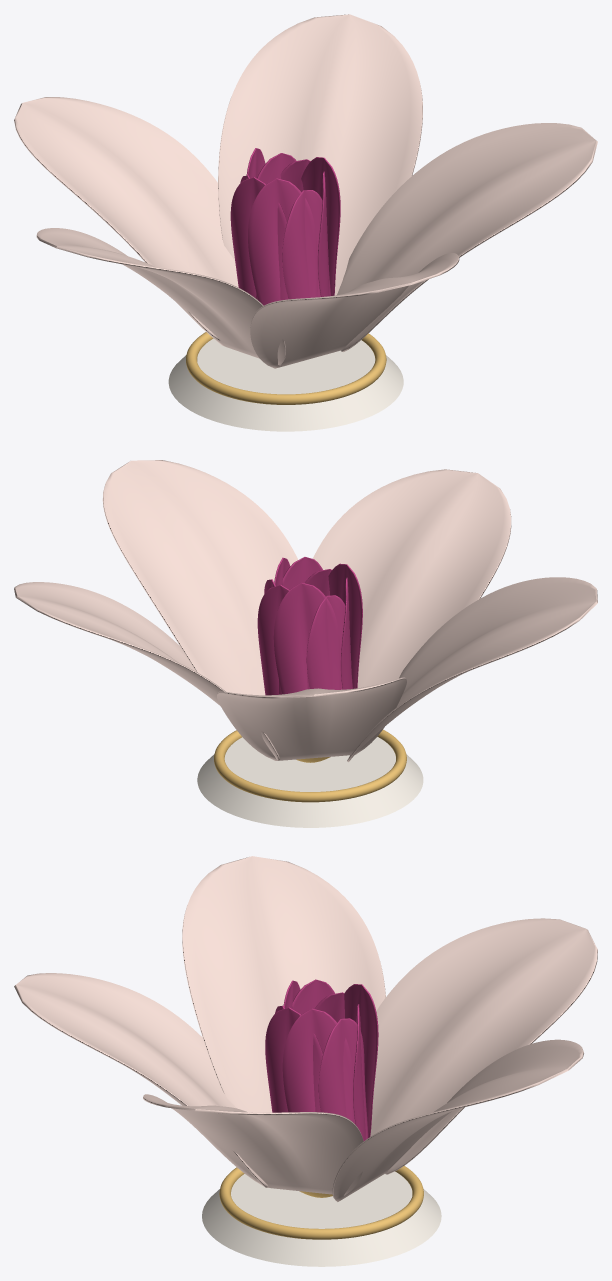
File: lotus.glb
The picture shows the model from 3 angles, top to bottom: view 1: azimuth 30°, elevation 25°; view 2: azimuth 150°, elevation 25°; view 3: azimuth 270°, elevation 25°; orthographic projection. The views are drawn at different scales.
Parts seen in each view (by area): view 1: petal_shanti, petal_prema, petal_dharma, plinth, petal_sathya, petal_ahimsa, petal_mid_8, plinth_rim, petal_mid_0, petal_mid_7, petal_mid_2, petal_mid_1 (+1 smaller); view 2: petal_dharma, petal_sathya, plinth, petal_ahimsa, petal_prema, petal_shanti, petal_mid_5, plinth_rim, petal_mid_6, petal_mid_4, petal_mid_8, petal_mid_7 (+1 smaller); view 3: petal_ahimsa, petal_prema, petal_sathya, plinth, petal_dharma, petal_shanti, petal_mid_2, plinth_rim, petal_mid_3, petal_mid_1, petal_mid_5, petal_mid_4 (+2 smaller).
Part boxes in pixels (x1,y1,x2,y2): petal_shanti: (218,14,422,295); petal_prema: (14,97,238,340); petal_dharma: (337,123,597,351); plinth: (168,338,403,431); petal_sathya: (250,253,459,368); petal_ahimsa: (36,228,285,365); petal_mid_8: (248,178,317,305); plinth_rim: (186,332,386,404); petal_mid_0: (282,190,330,299); petal_mid_7: (230,177,288,300); petal_mid_2: (301,157,340,295); petal_mid_1: (317,171,329,296); petal_dharma: (102,460,298,695); petal_sathya: (312,469,511,688); plinth: (197,737,423,827); petal_ahimsa: (347,577,597,761); petal_prema: (217,677,406,760); petal_shanti: (14,582,280,760); petal_mid_5: (273,582,341,694); plinth_rim: (214,729,406,802); petal_mid_6: (306,595,352,689); petal_mid_4: (257,585,309,695); petal_mid_8: (328,563,362,688); petal_mid_7: (340,577,351,689); petal_ahimsa: (182,856,385,1112); petal_prema: (370,918,597,1174); petal_sathya: (14,973,267,1187); plinth: (202,1171,441,1266); petal_dharma: (143,1094,363,1195); petal_shanti: (332,1039,583,1201); petal_mid_2: (282,1008,354,1122); plinth_rim: (219,1166,423,1239); petal_mid_3: (318,1018,368,1139); petal_mid_1: (265,1007,322,1112); petal_mid_5: (344,984,378,1137); petal_mid_4: (353,1004,365,1140).
Bounding box in the file's own units: 2.74 × 1.19 × 2.63.
